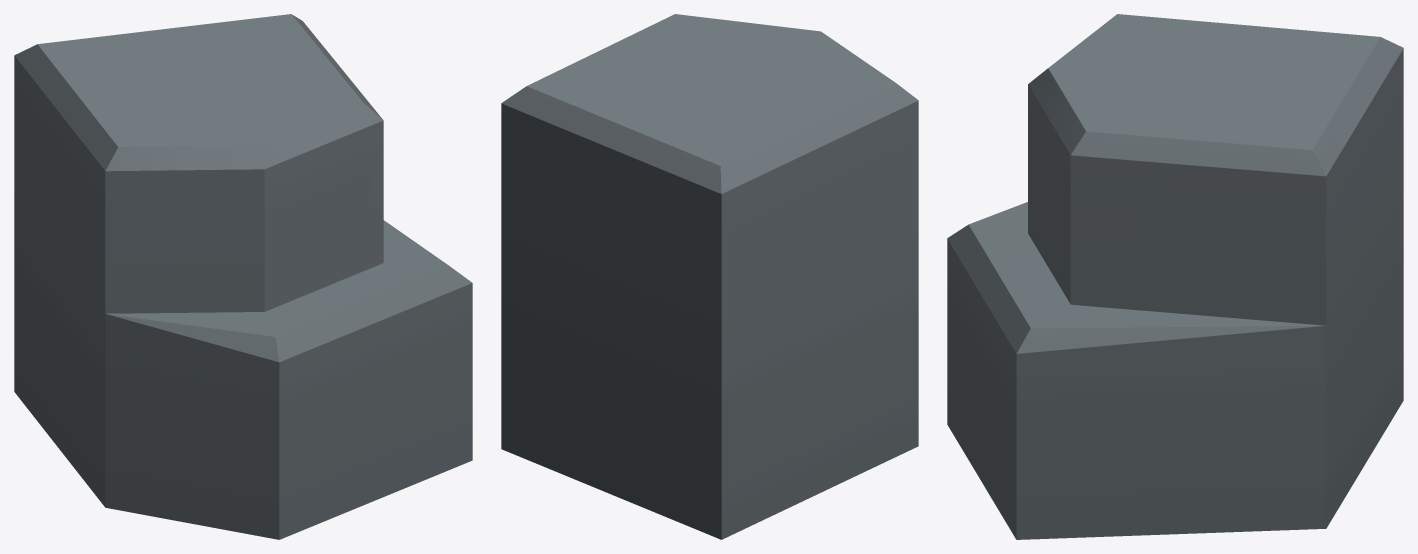
File: rock_1_c_color1.c6a92f03.glb
3 views of the same model, side by side, from view 1: azimuth 30°, elevation 25°; view 2: azimuth 150°, elevation 25°; view 3: azimuth 270°, elevation 25° (orthographic). The views are drawn at different scales.
Parts seen in each view (by area): view 1: Rock_1_C_Color1; view 2: Rock_1_C_Color1; view 3: Rock_1_C_Color1.
Boxes of the visible parts, left/top/right/bottom form: Rock_1_C_Color1: left=14, top=14, right=472, bottom=539; Rock_1_C_Color1: left=501, top=14, right=918, bottom=539; Rock_1_C_Color1: left=947, top=14, right=1403, bottom=539.
Bounding box in the file's own units: 0.5188 × 0.5403 × 0.6051.
1 material, 1 textured.
